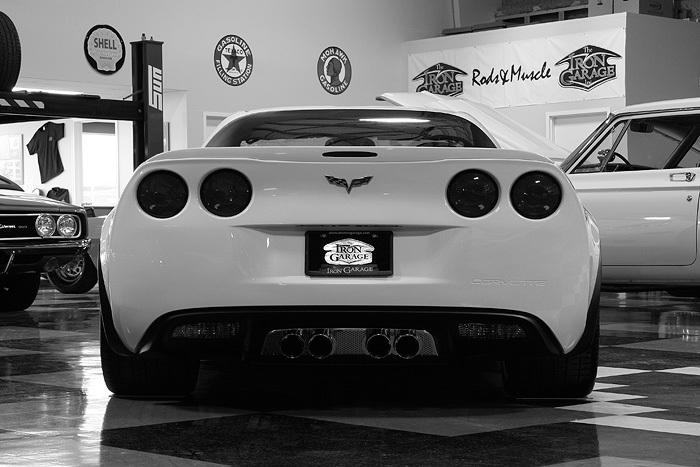car: (94, 104, 606, 404)
